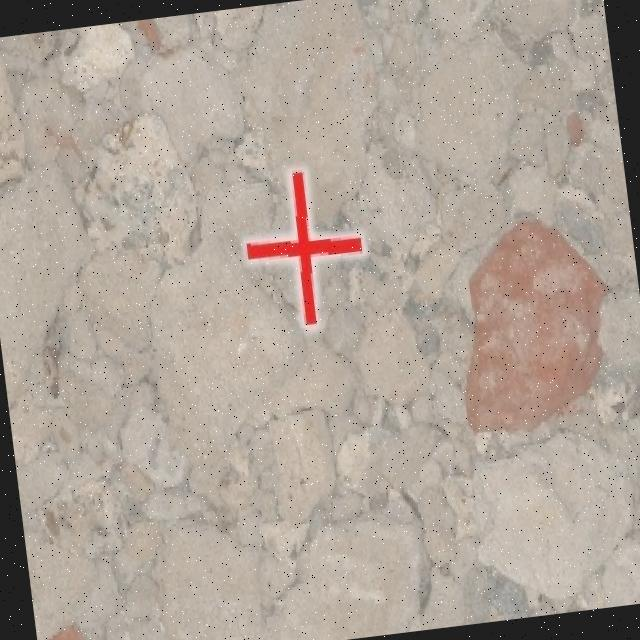x_marker: (237, 165, 371, 332)
